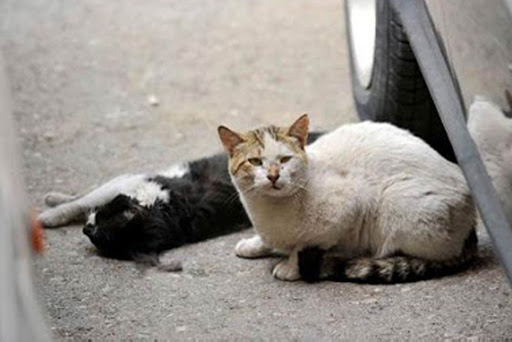cat: (224, 124, 470, 273), (38, 162, 256, 250)
